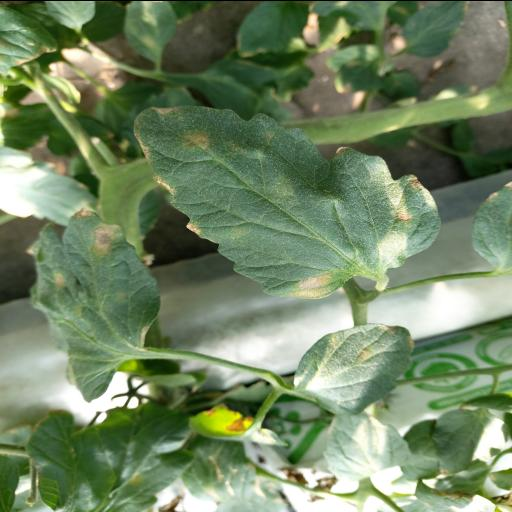disease_tomato: (132, 105, 442, 298), (29, 207, 163, 403), (290, 321, 414, 410)
